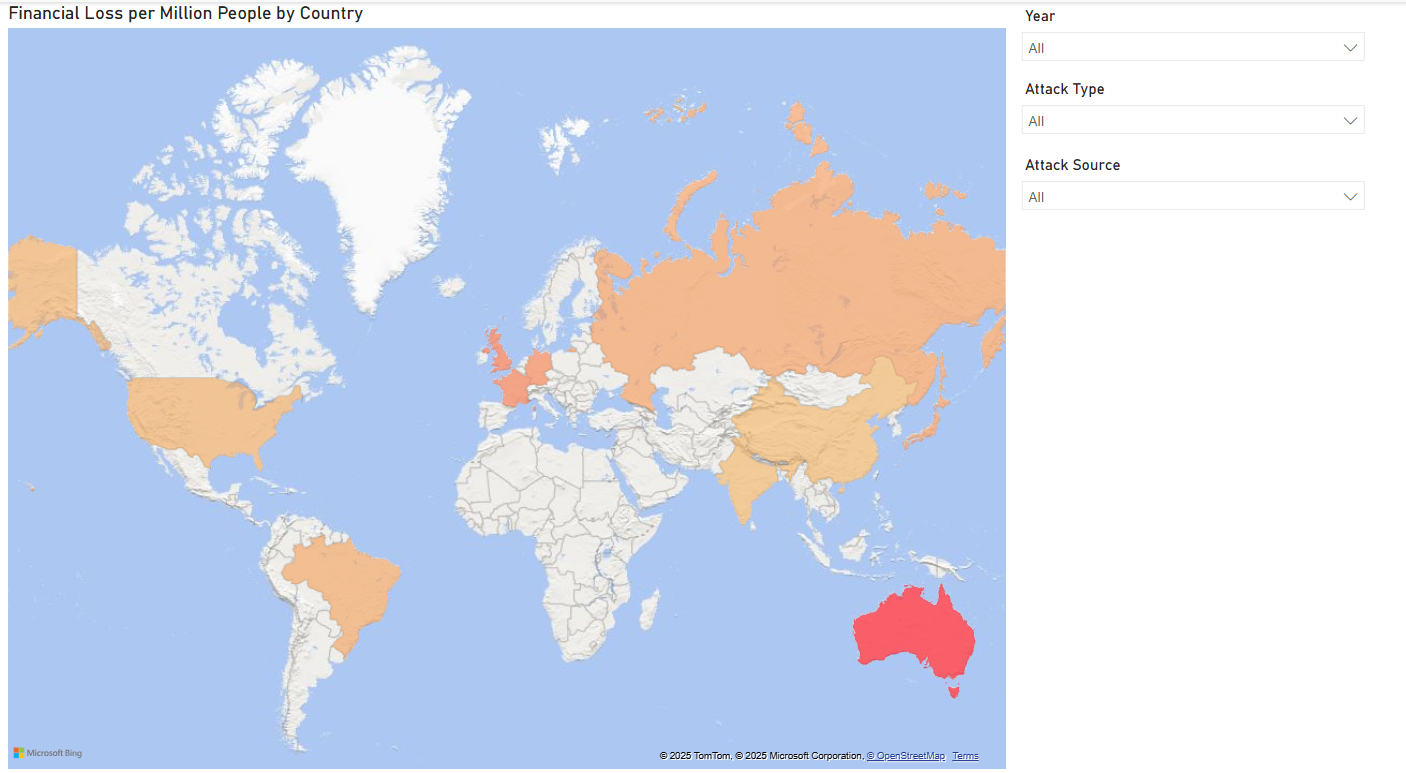

What the dashboard file says about the page in this screenshot:
{"tool":"powerbi","page":{"name":"Map","canvas":[1280,720],"ordinal":1},"visuals":[{"type":"filledMap","title":"Financial Loss per Million People by Country","fields":{"Category":["Global_Cybersecurity_Threats_2015-2024.Country"]},"box":[0,0,940,720],"z":0},{"type":"slicer","fields":{"Values":["Global_Cybersecurity_Threats_2015-2024.Year"]},"box":[940.4,0,339.6,68.3],"z":1000},{"type":"slicer","fields":{"Values":["Global_Cybersecurity_Threats_2015-2024.Attack Type"]},"box":[940.4,68.3,339.6,70.3],"z":2000},{"type":"slicer","fields":{"Values":["Global_Cybersecurity_Threats_2015-2024.Attack Source"]},"box":[940.4,138.6,339.6,70.3],"z":3000}]}

Visuals, with their boxes in screenshot pixels (x1, y1, x2, y2), scaled from the page's 1280x720 canvas onto the 1406x773 screenshot:
"Financial Loss per Million People by Country" filledMap: x1=0, y1=0, x2=1033, y2=772
slicer - Global_Cybersecurity_Threats_2015-2024.Year: x1=1033, y1=0, x2=1405, y2=73
slicer - Global_Cybersecurity_Threats_2015-2024.Attack Type: x1=1033, y1=73, x2=1405, y2=149
slicer - Global_Cybersecurity_Threats_2015-2024.Attack Source: x1=1033, y1=149, x2=1405, y2=224
